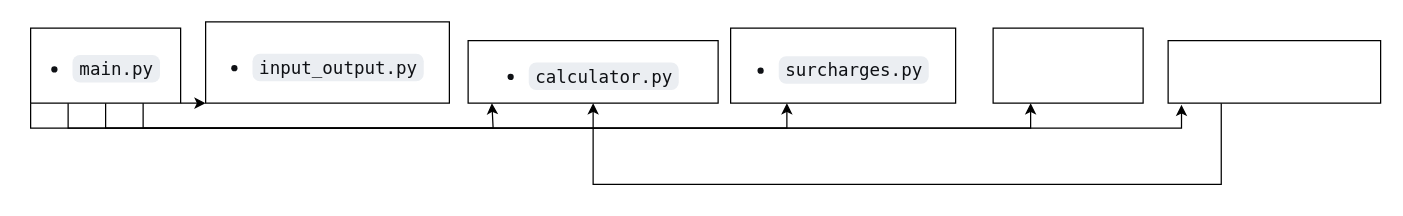
The diagram is 1403 pixels wide and 216 high, and some of its shapes have lost their labels. Each missing label, with the box of its shape:
comparator.py: (1167, 39, 1381, 103)
logger.py: (992, 27, 1143, 103)
